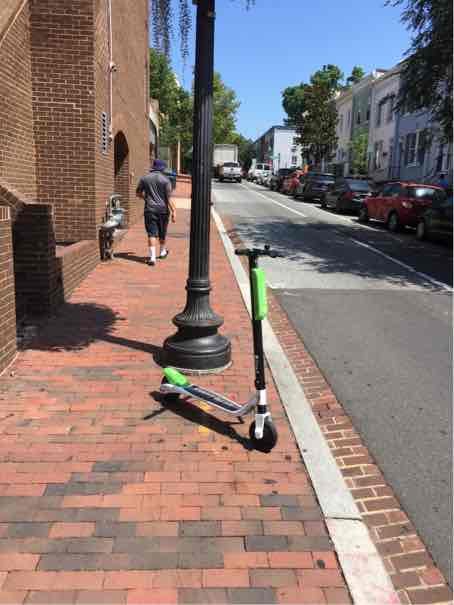scooter: (143, 226, 289, 453)
